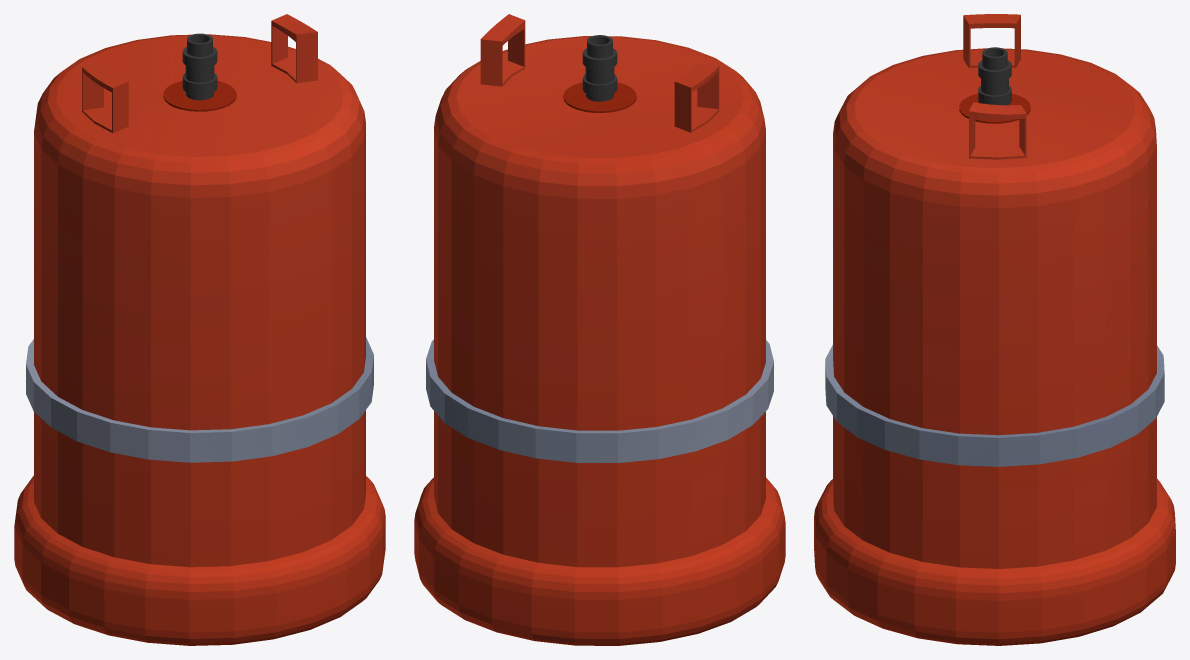
Rendered from Gas con UV.fbx.
3 renders of one model, left to right at view 1: azimuth 30°, elevation 25°; view 2: azimuth 150°, elevation 25°; view 3: azimuth 270°, elevation 25°, orthographic. The views are drawn at different scales.
Visible parts, largest first — view 1: Cylinder.002; view 2: Cylinder.002; view 3: Cylinder.002.
Part boxes in pixels (box(x1,y1,x2,y2)): Cylinder.002: box(14, 14, 385, 645); Cylinder.002: box(414, 14, 785, 645); Cylinder.002: box(814, 14, 1175, 645).
Bounding box in the file's own units: 180 × 285 × 179.
